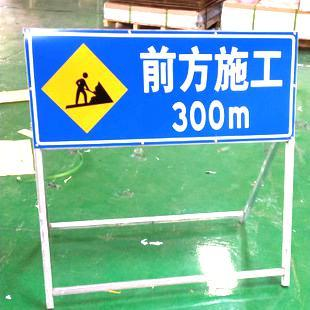sign: (26, 32, 295, 143)
